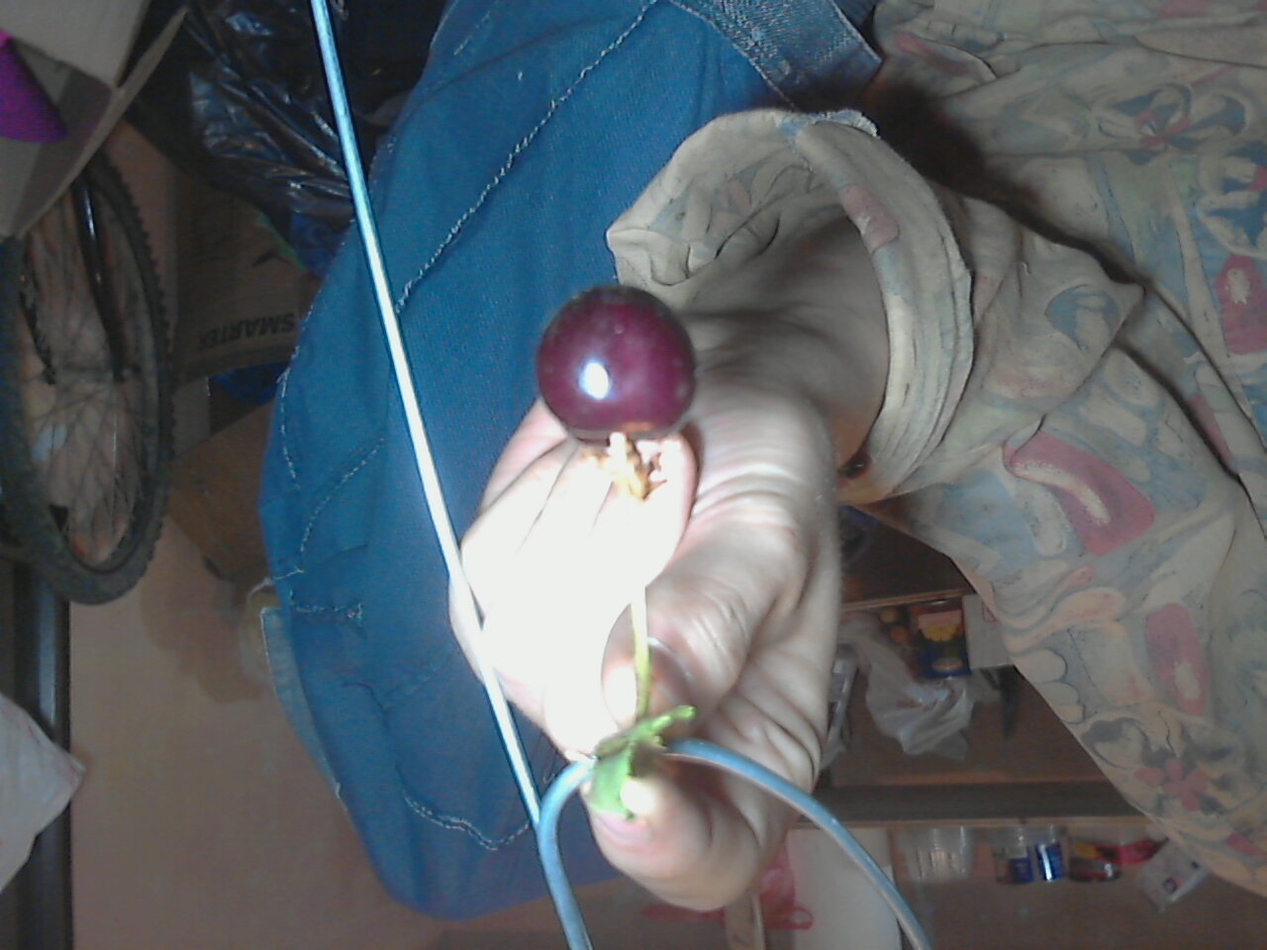Cherry: (510, 247, 720, 467)
